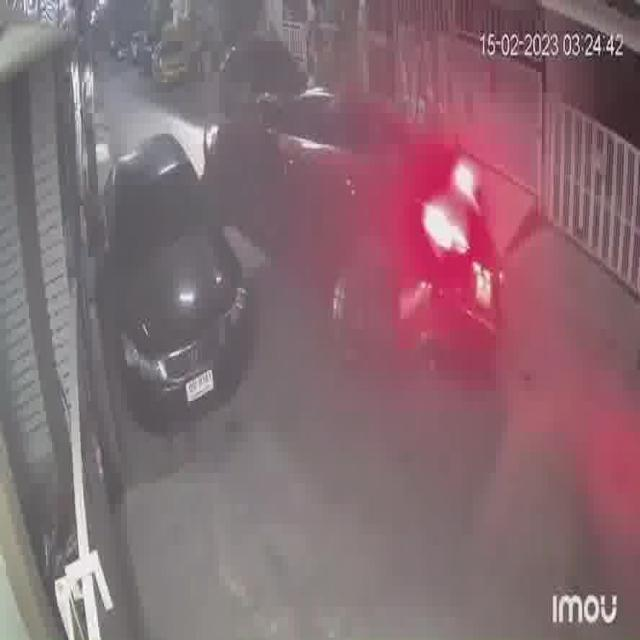multiple_accident: (88, 81, 518, 445)
